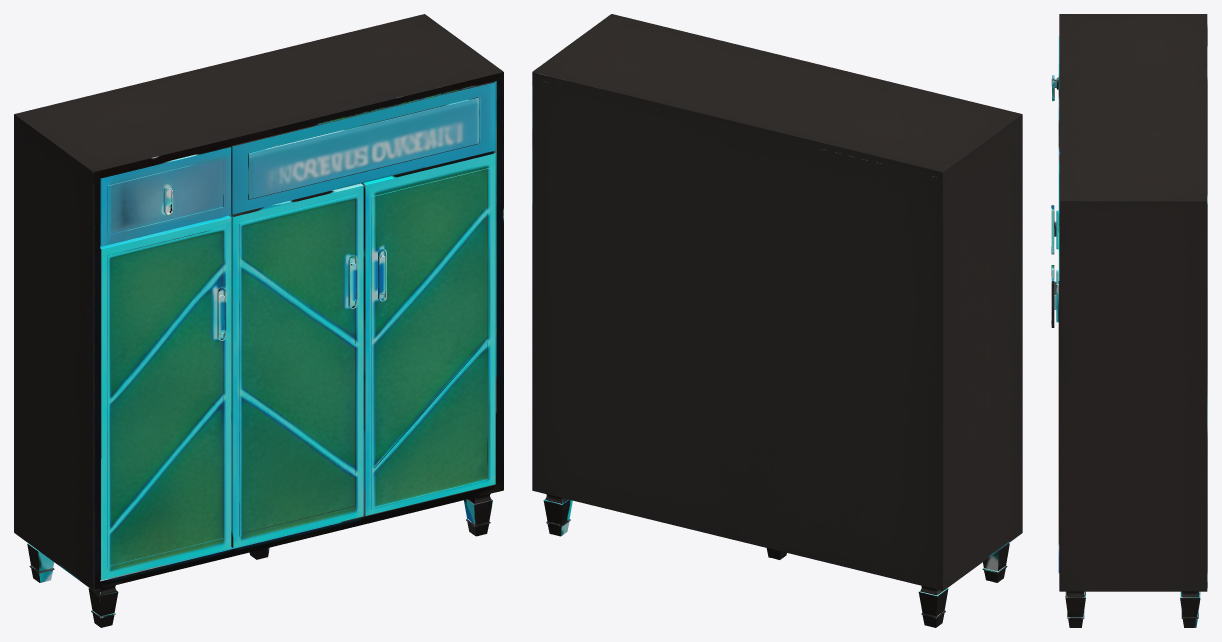
Rendered from edited_mesh.glb.
3 views of the same model, side by side, from view 1: azimuth 30°, elevation 25°; view 2: azimuth 150°, elevation 25°; view 3: azimuth 270°, elevation 25° (orthographic). The views are drawn at different scales.
Parts seen in each view (by area): view 1: solid_001_wire; view 2: solid_001_wire; view 3: solid_001_wire.
Part boxes in pixels (x1,y1,x2,y2): solid_001_wire: (14,14,503,627); solid_001_wire: (532,14,1022,627); solid_001_wire: (1051,14,1207,627).
Size of the model in its own units: 1.27 by 1.37 by 0.4471.
Materials: 1 (1 with a texture image).
